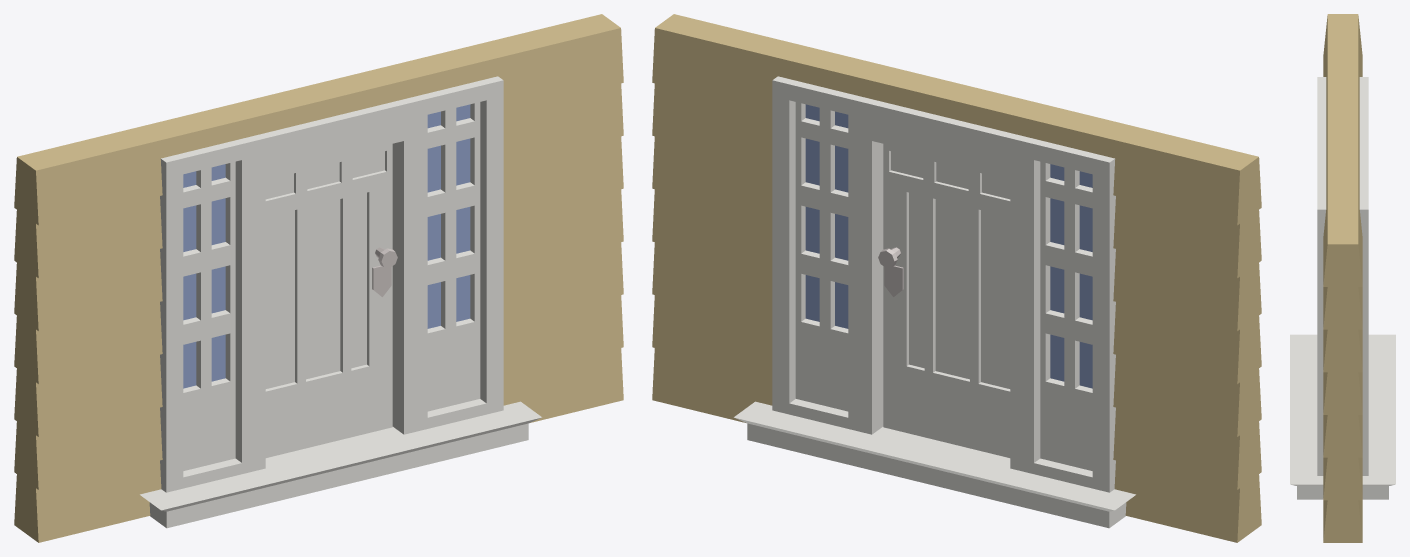
File: Door01_house4.fbx
3 renders of one model, left to right at view 1: azimuth 30°, elevation 25°; view 2: azimuth 150°, elevation 25°; view 3: azimuth 270°, elevation 25°, orthographic. The views are drawn at different scales.
Parts seen in each view (by area): view 1: Door01_house04; view 2: Door01_house04; view 3: Door01_house04.
Boxes of the visible parts, bbox=[...] form: Door01_house04: bbox=[14, 14, 623, 542]; Door01_house04: bbox=[652, 14, 1261, 542]; Door01_house04: bbox=[1290, 14, 1395, 542].
Bounding box in the file's own units: 547 × 331 × 106.
